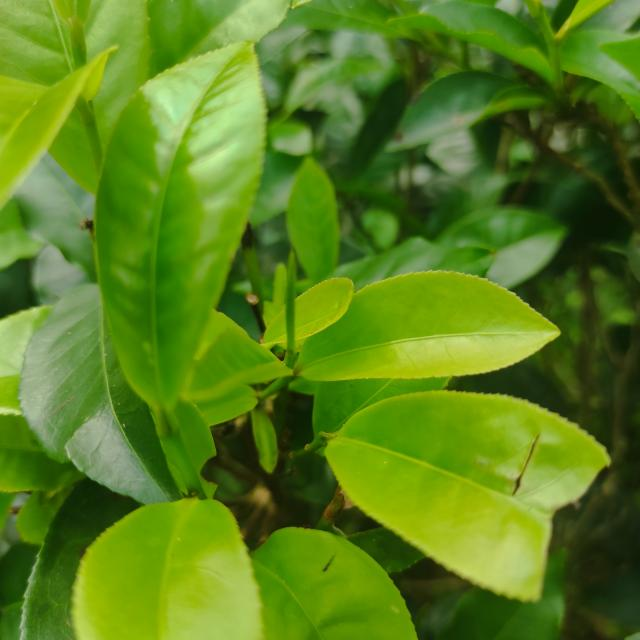unopened_leaf: (276, 243, 305, 374)
